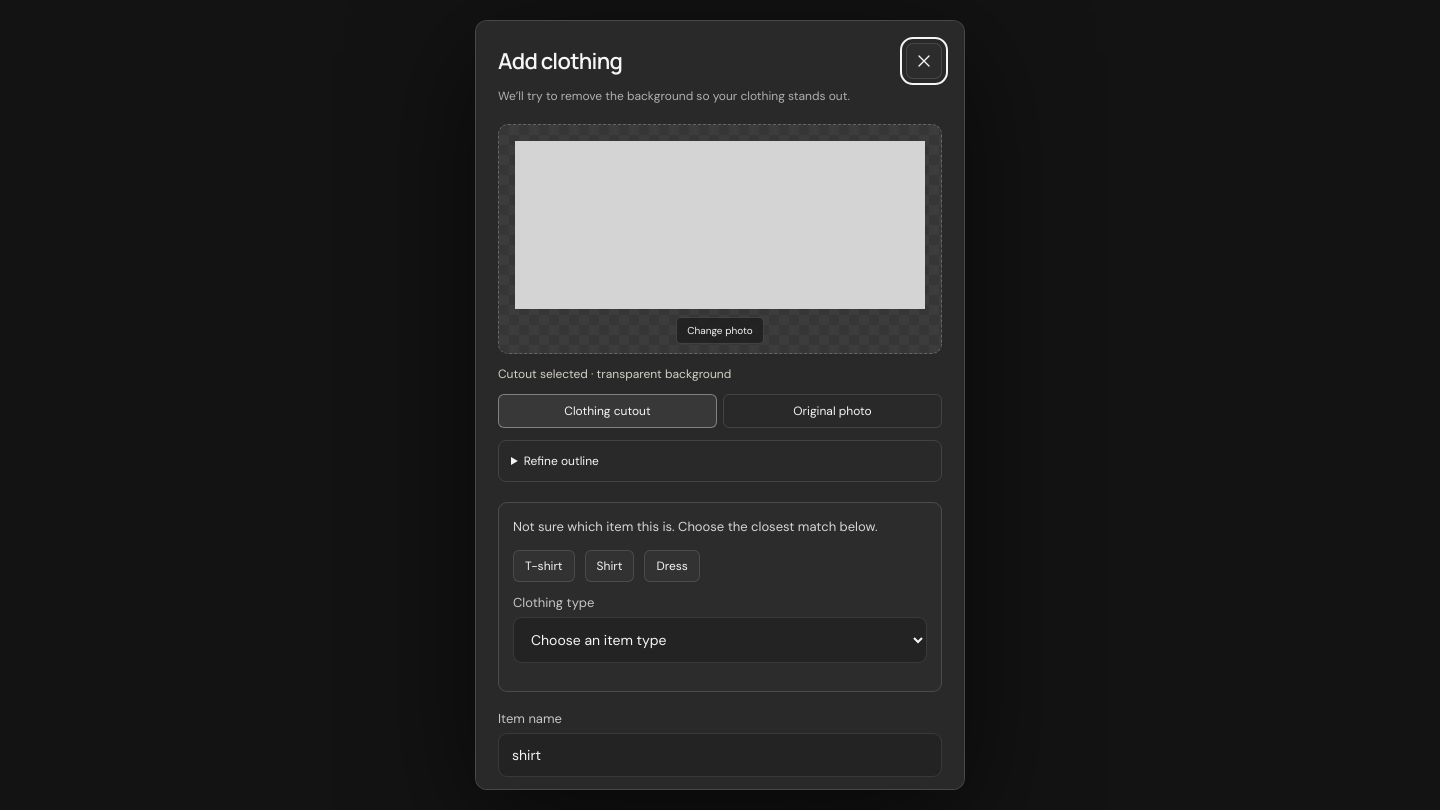
Test case: shows alternatives for uncertain results without automatically selecting an item
Earlier steps of the test are not shown.
Expected: the text "Not sure which item this is. Choose the closest match below." is shown, [513,517,927,538]
Expected: the dropdown labelled "Clothing type" shows "Choose an item type", [513,617,927,663]
Click the button "Dress" at (672, 566), box [644,550,700,582]
(page scrolled)
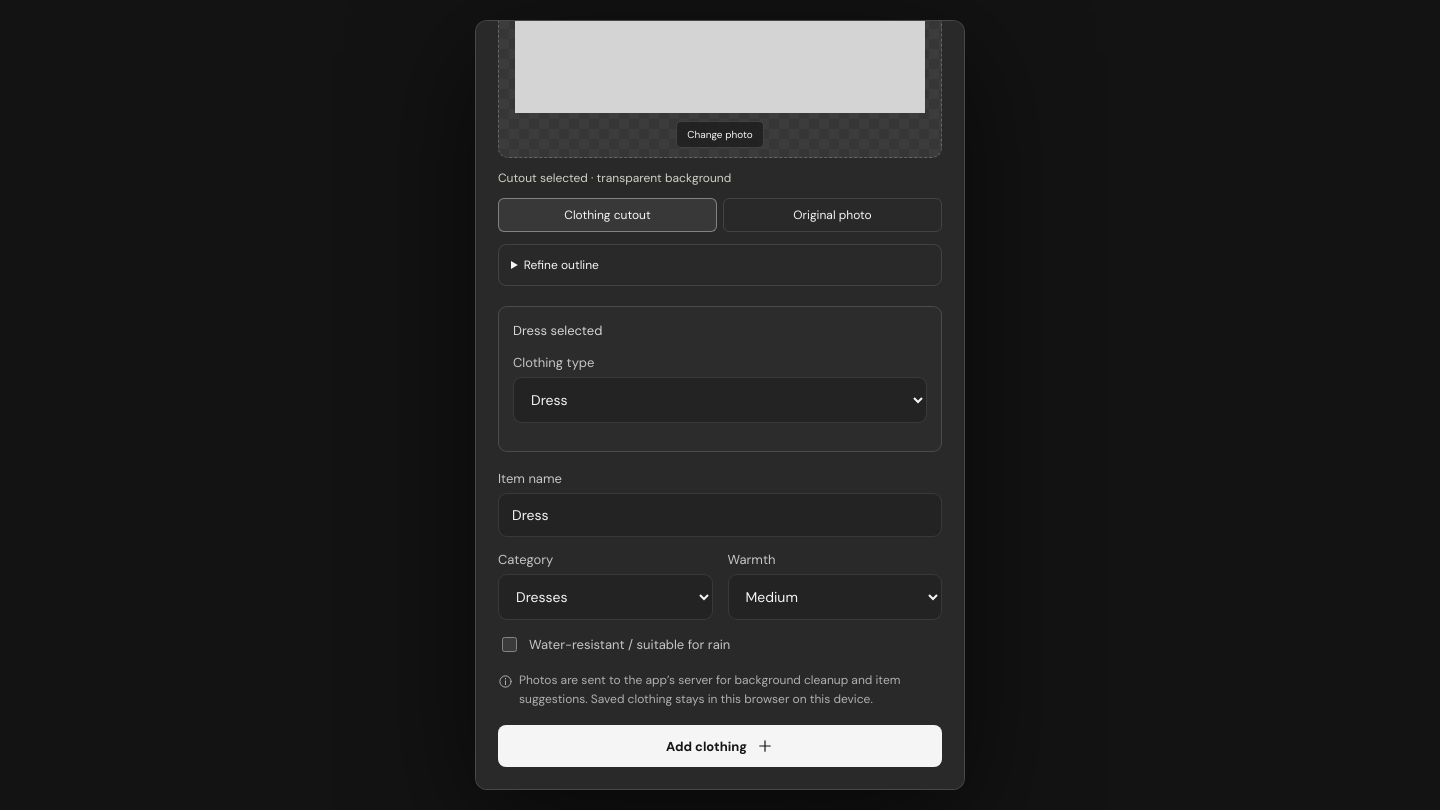
Expected: the dropdown labelled "Clothing type" shows "Dress", [513,377,927,423]
Expected: the dropdown labelled "Category" shows "Dresses", [498,574,712,620]
